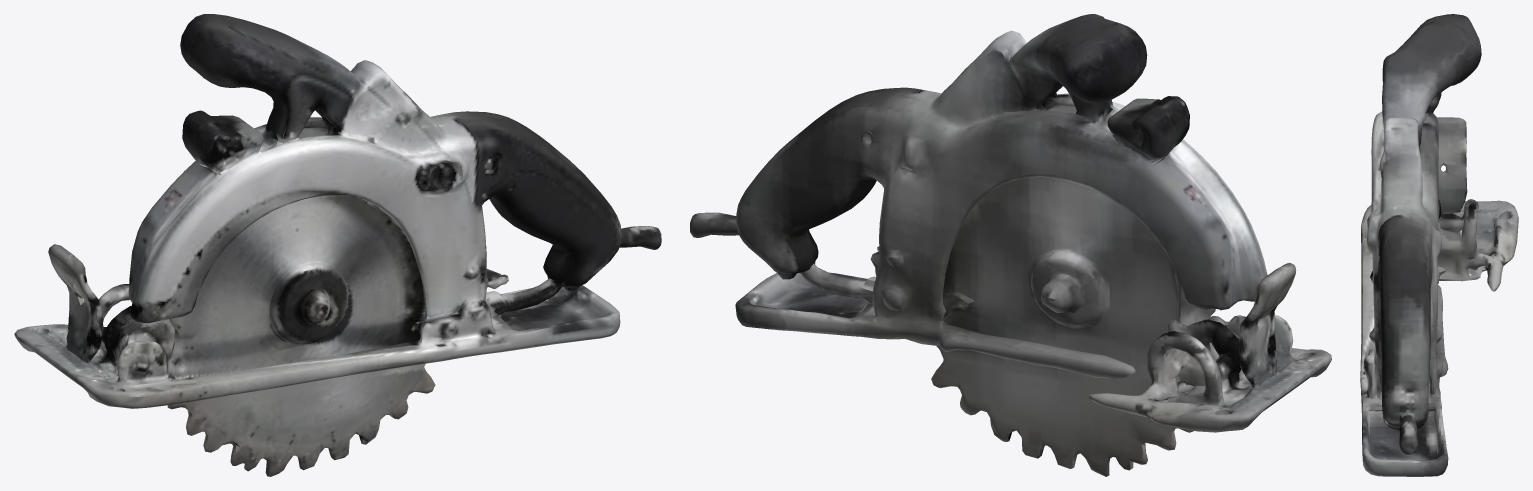
Rendered from brisket-saw.glb.
3 views of the same model, side by side, from view 1: azimuth 30°, elevation 25°; view 2: azimuth 150°, elevation 25°; view 3: azimuth 270°, elevation 25° (orthographic). The views are drawn at different scales.
Visible parts, largest first — view 1: cowninja-brisket-saw; view 2: cowninja-brisket-saw; view 3: cowninja-brisket-saw.
Boxes of the visible parts, x1,y1,x2,y2 form: cowninja-brisket-saw: (14,14,661,476); cowninja-brisket-saw: (690,14,1331,476); cowninja-brisket-saw: (1360,14,1518,476).
Bounding box in the file's own units: 0.6999 × 0.5106 × 0.1932.
1 material, 1 textured.
